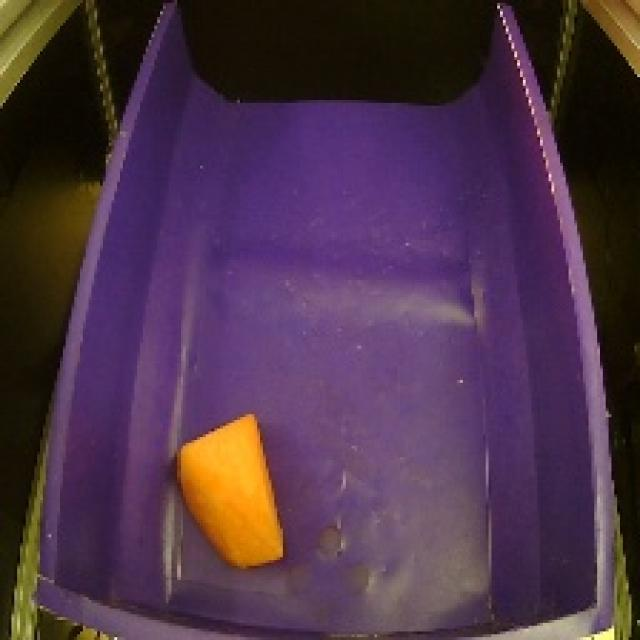carrots: (168, 408, 292, 575)
